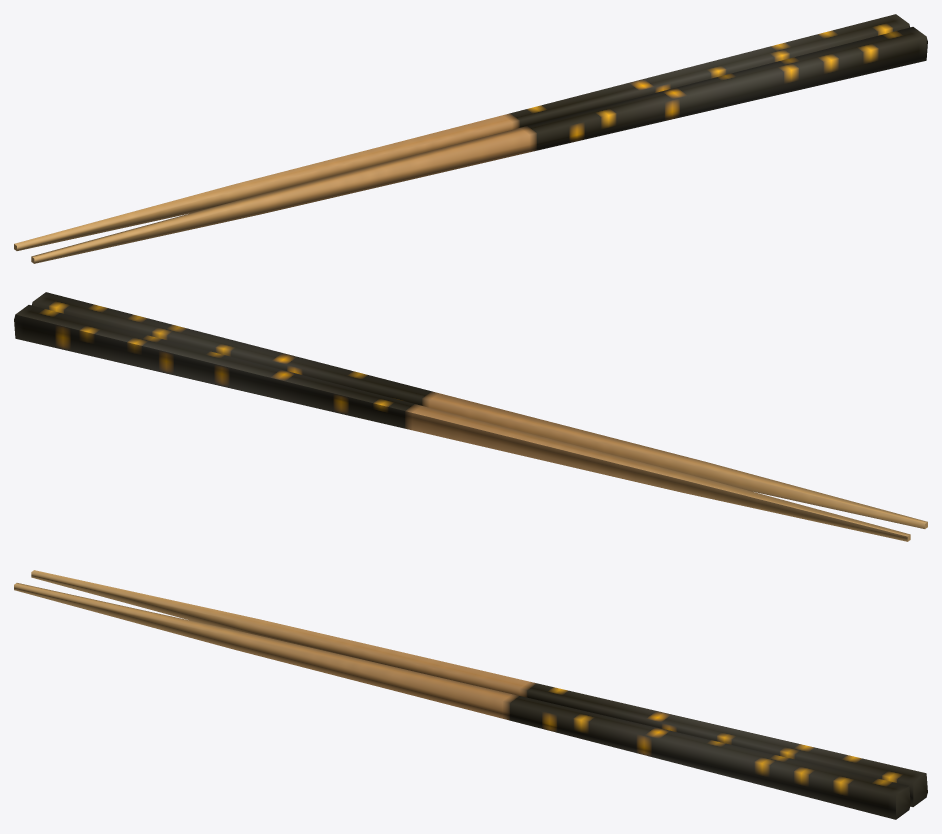
The model's file is KR_Chopsticks_01_02.fbx.
3 views of the same model, one above another, from view 1: azimuth 30°, elevation 25°; view 2: azimuth 150°, elevation 25°; view 3: azimuth 330°, elevation 25° (orthographic).
Visible parts, largest first — view 1: chopsticks_02, chopsticks_01; view 2: chopsticks_01, chopsticks_02; view 3: chopsticks_02, chopsticks_01.
Boxes of the visible parts, bbox=[...] form: chopsticks_02: bbox=[31, 27, 927, 263]; chopsticks_01: bbox=[14, 14, 910, 250]; chopsticks_01: bbox=[14, 305, 910, 541]; chopsticks_02: bbox=[31, 292, 927, 528]; chopsticks_02: bbox=[14, 583, 910, 819]; chopsticks_01: bbox=[31, 570, 927, 806].
Bounding box in the file's own units: 23.21 × 0.6 × 1.37.
